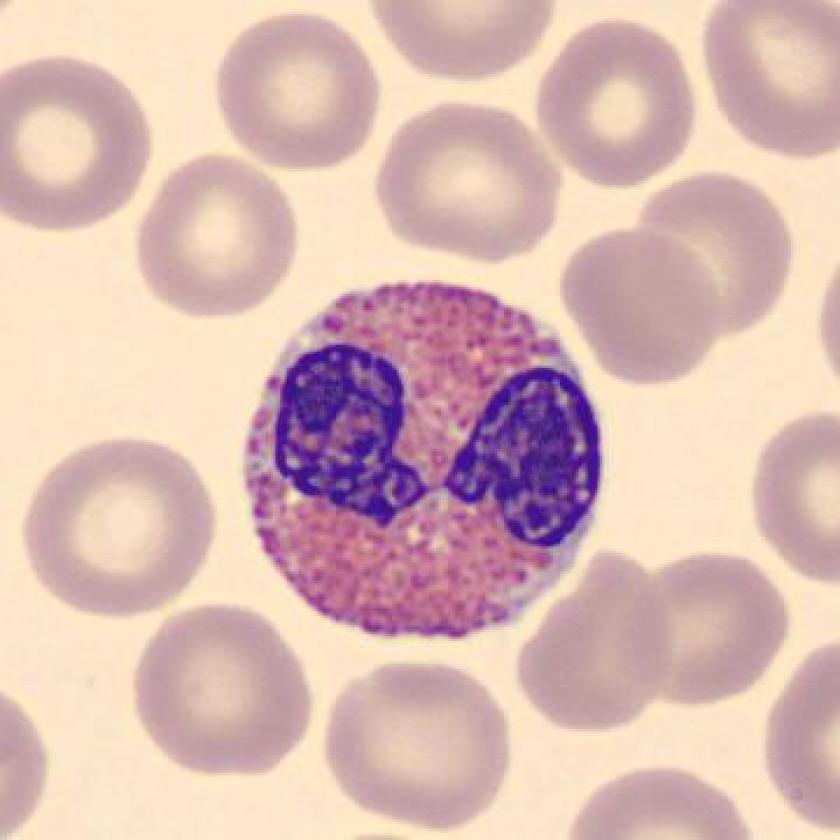eosinophil: (235, 269, 613, 649)
